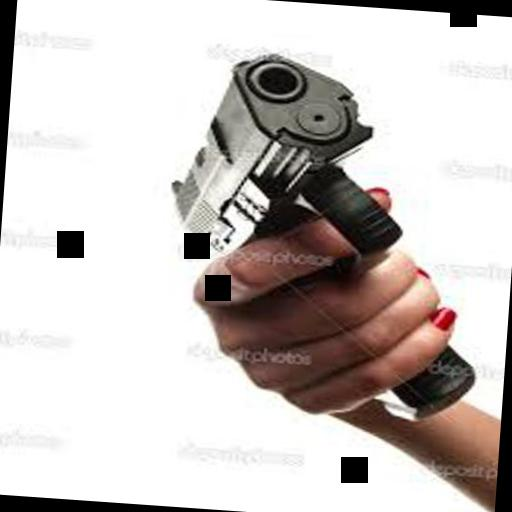Handgun: (156, 36, 494, 427)
